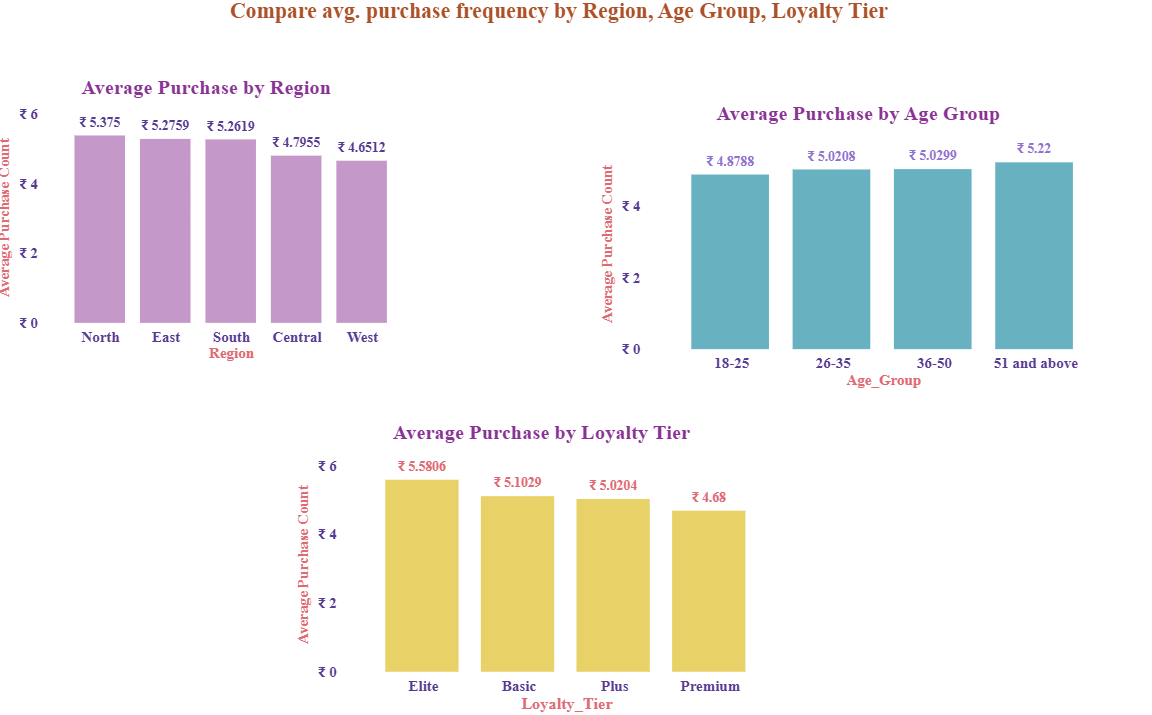

The page's visual inventory and layout, read from the dashboard file:
{"tool":"powerbi","page":{"name":"Task-3","canvas":[1280,720],"ordinal":4},"visuals":[{"type":"clusteredColumnChart","title":"Average Purchase by Region","fields":{"Category":["AvgPurchase_By_Region.Region"],"Y":["Sum(AvgPurchase_By_Region.Average_Purchase_Count)"]},"box":[79.7,91.8,418.7,285],"z":0},{"type":"clusteredColumnChart","title":"Average Purchase by Age Group","fields":{"Y":["Sum(AvgPurchase_By_AgeGroup.Average_Purchase_Count)"],"Category":["AvgPurchase_By_AgeGroup.Age_Group"]},"box":[668.5,117.5,515.9,285],"z":1000},{"type":"clusteredColumnChart","title":"Average Purchase  by Loyalty Tier","fields":{"Category":["AvgPurchase_By_LoyaltyTier.Loyalty_Tier"],"Y":["Sum(AvgPurchase_By_LoyaltyTier.Average_Purchase_Count)"]},"box":[371.4,429.5,490.3,290.4],"z":2000},{"type":"textbox","box":[306.6,10.8,723.9,56.7],"z":2001}]}

Visuals, with their boxes on the page's 1280x720 design canvas (x1, y1, x2, y2). These are canvas units, not pixel positions in the 1152x715 screenshot, which may show the page scaled, cropped or inside an application window:
"Average Purchase by Region" clusteredColumnChart: locate(80, 92, 498, 377)
"Average Purchase by Age Group" clusteredColumnChart: locate(668, 118, 1184, 402)
"Average Purchase  by Loyalty Tier" clusteredColumnChart: locate(371, 430, 862, 720)
textbox: locate(307, 11, 1030, 68)
